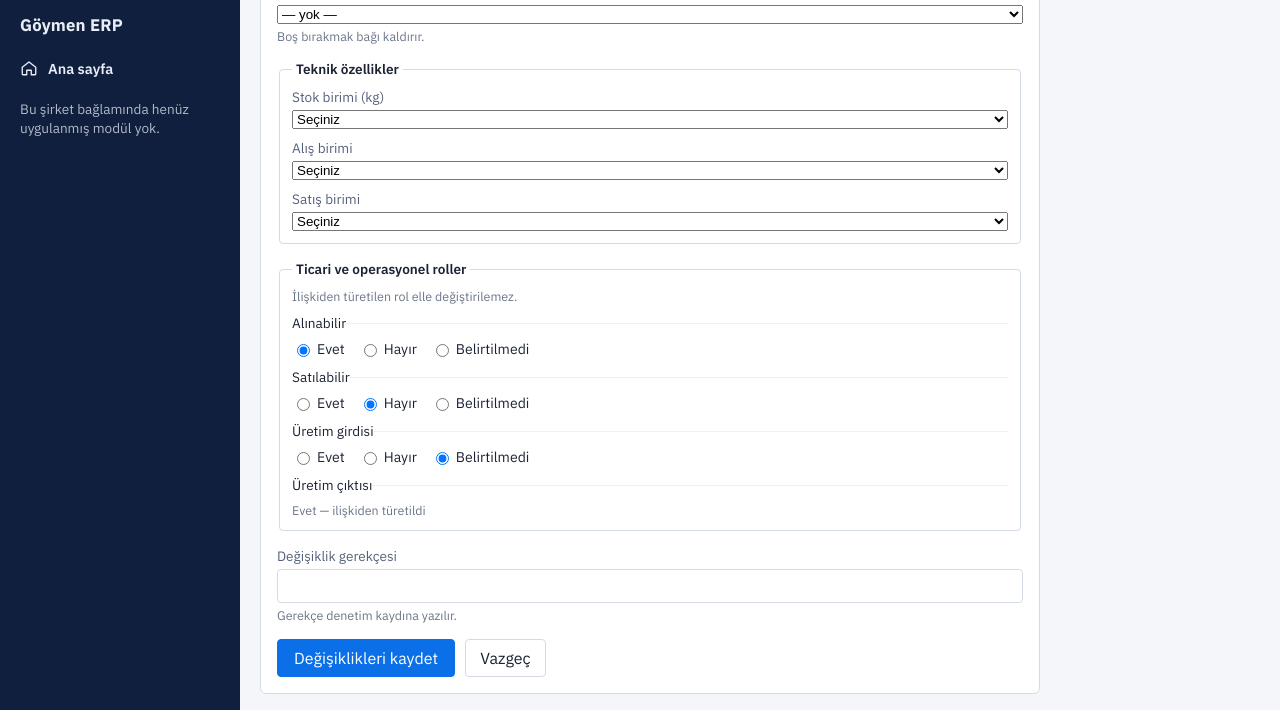
Test: the diff, not the form › refuses a save that would write nothing, and sends no request
(page scrolled)
Click the button "Değişiklikleri kaydet". click: (366,658)
box: top-left (277, 639), bottom-right (455, 677)
(page scrolled)
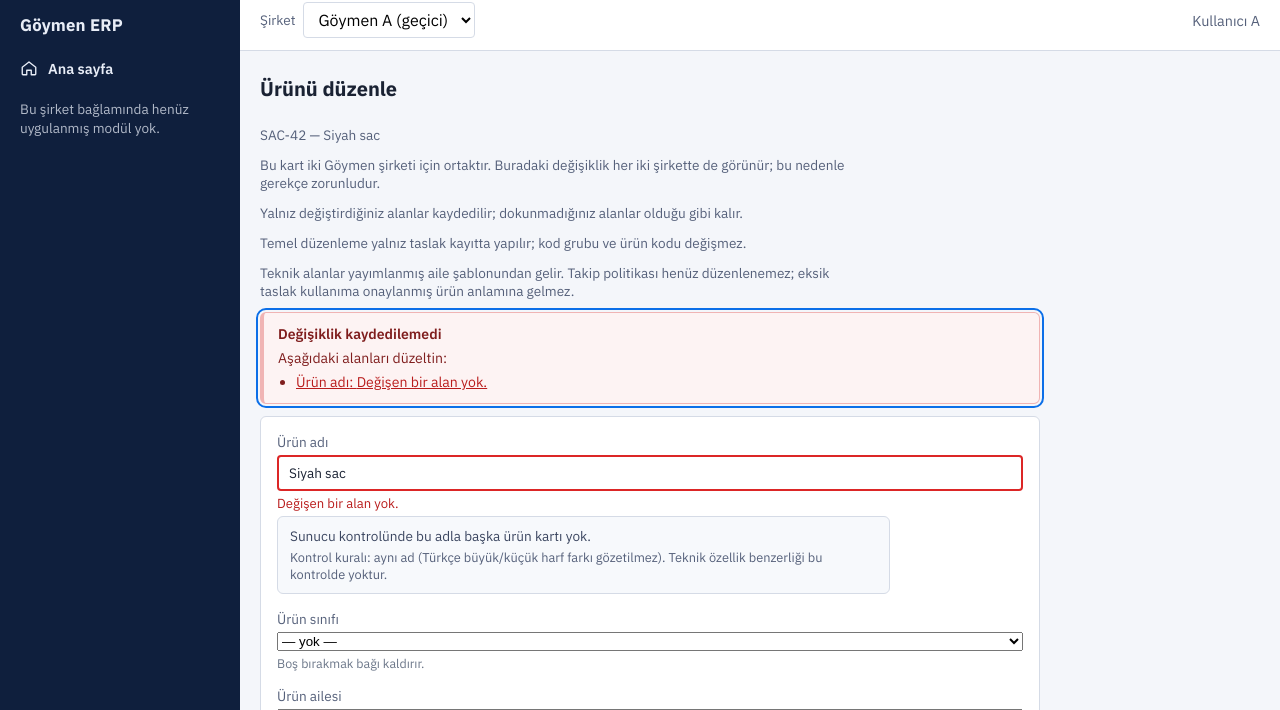
Now the message with test id "product-edit-error-summary" is shown, box top-left (260, 312), bottom-right (1040, 404)
